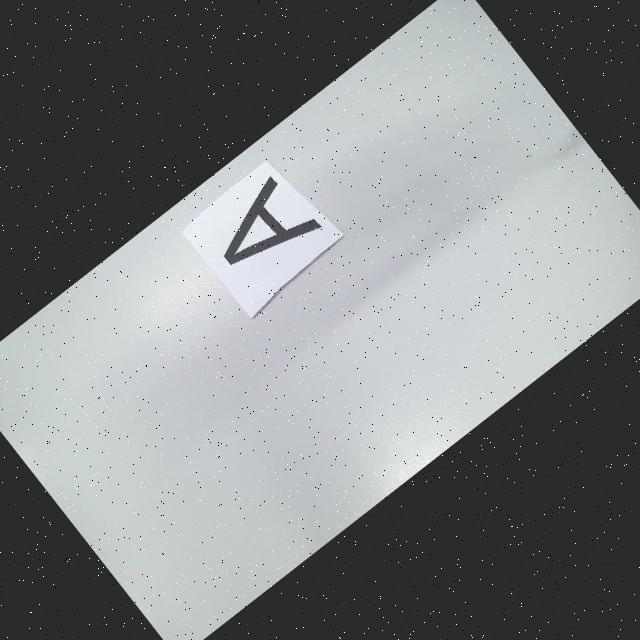FAKE: (202, 169, 324, 286)
